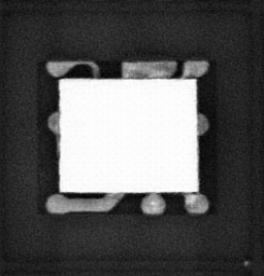DIE_INK: (241, 258, 249, 266)
